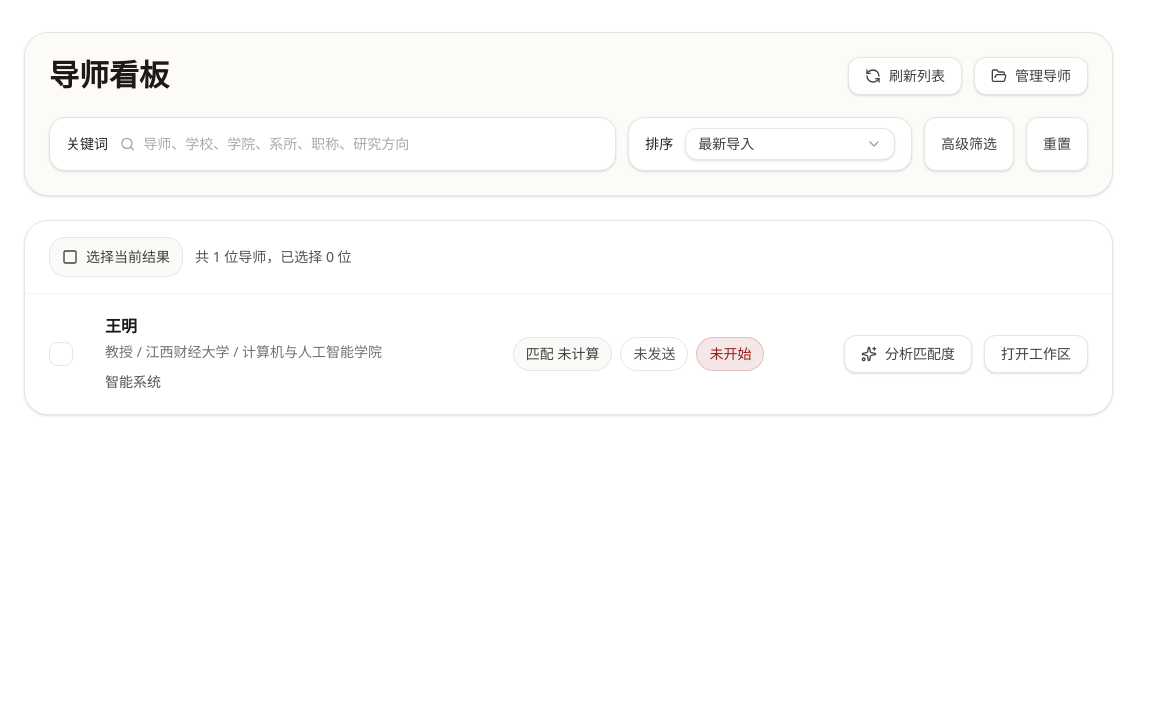
Test: HomePage selection dock › shows the selected professor action dock after checking a professor
Expected: the text "已选中 1 位导师" is not shown
Step 1. Click the button named "选择 王明" → (61, 354), box [49, 342, 73, 366]
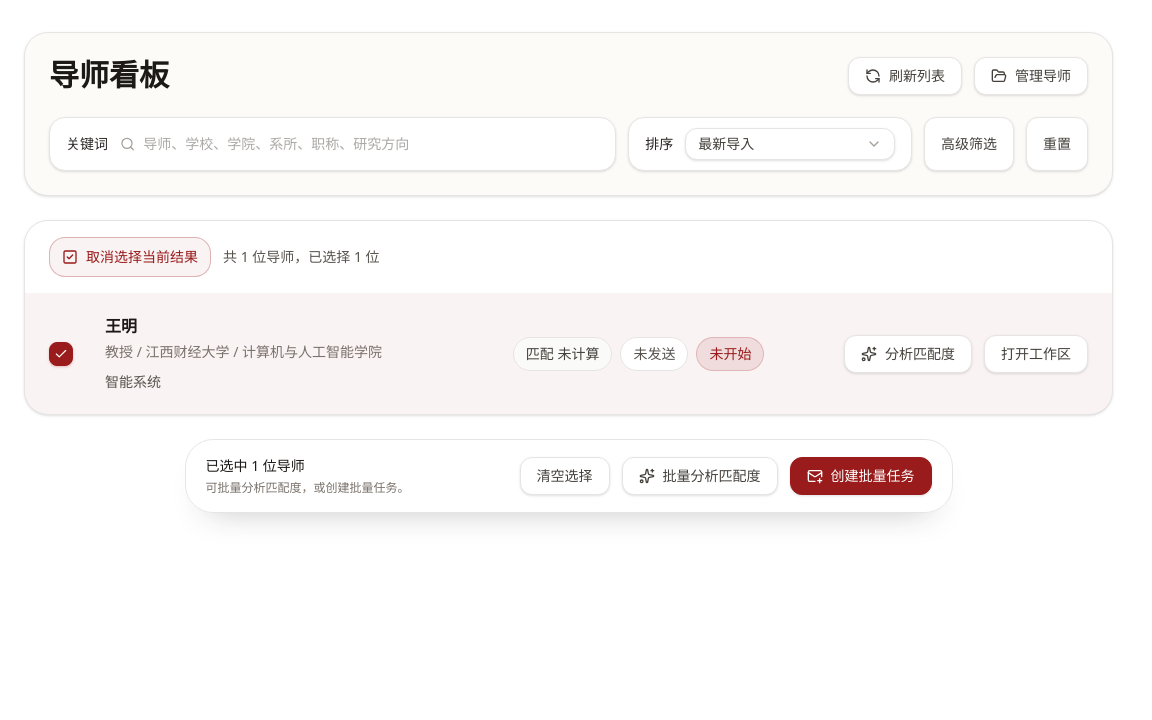
Result: the text "已选中 1 位导师" is shown at [206, 456, 305, 475]
Result: the button "批量分析匹配度" is shown at [622, 457, 778, 495]
Result: the button "创建批量任务" is shown at [790, 457, 932, 495]
